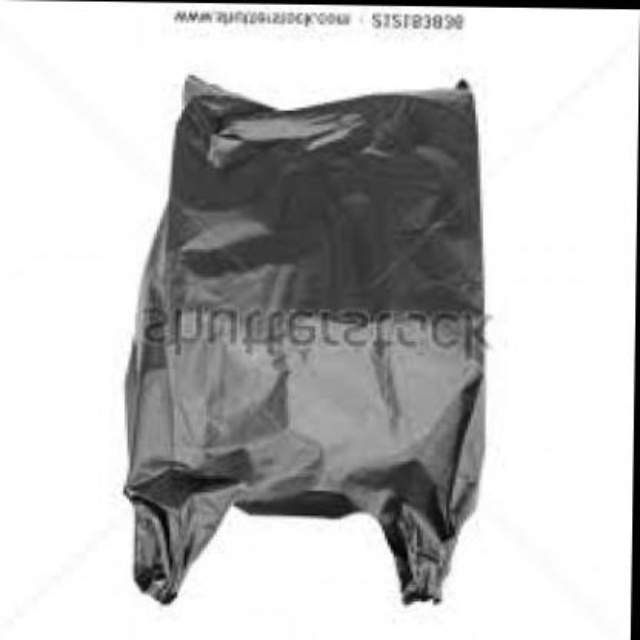trash: (125, 75, 483, 602)
